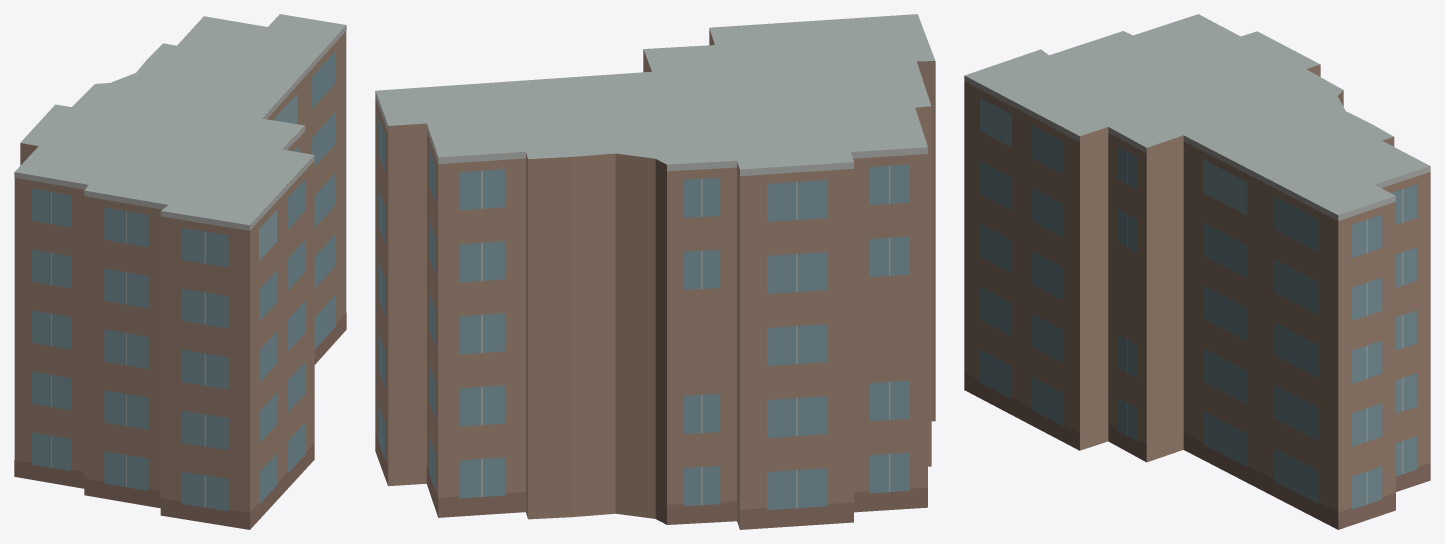
File: survey-upis-32719428.glb
3 renders of one model, left to right at view 1: azimuth 30°, elevation 25°; view 2: azimuth 150°, elevation 25°; view 3: azimuth 270°, elevation 25°, orthographic. The views are drawn at different scales.
Visible parts, largest first — view 1: survey-upis-32719428.tmp; view 2: survey-upis-32719428.tmp; view 3: survey-upis-32719428.tmp.
Part boxes in pixels (x1=…): survey-upis-32719428.tmp: x1=14, y1=14, x2=346, y2=529; survey-upis-32719428.tmp: x1=375, y1=14, x2=935, y2=529; survey-upis-32719428.tmp: x1=964, y1=14, x2=1430, y2=529.
Size of the model in its own units: 18.2 by 13.25 by 17.8.
